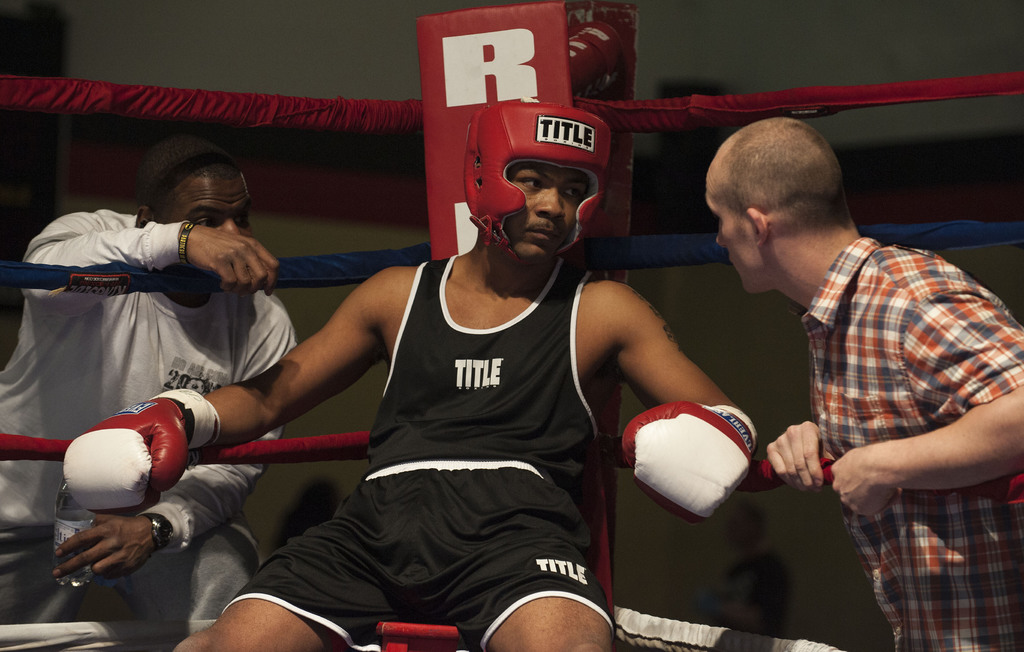face: (705, 179, 786, 291)
